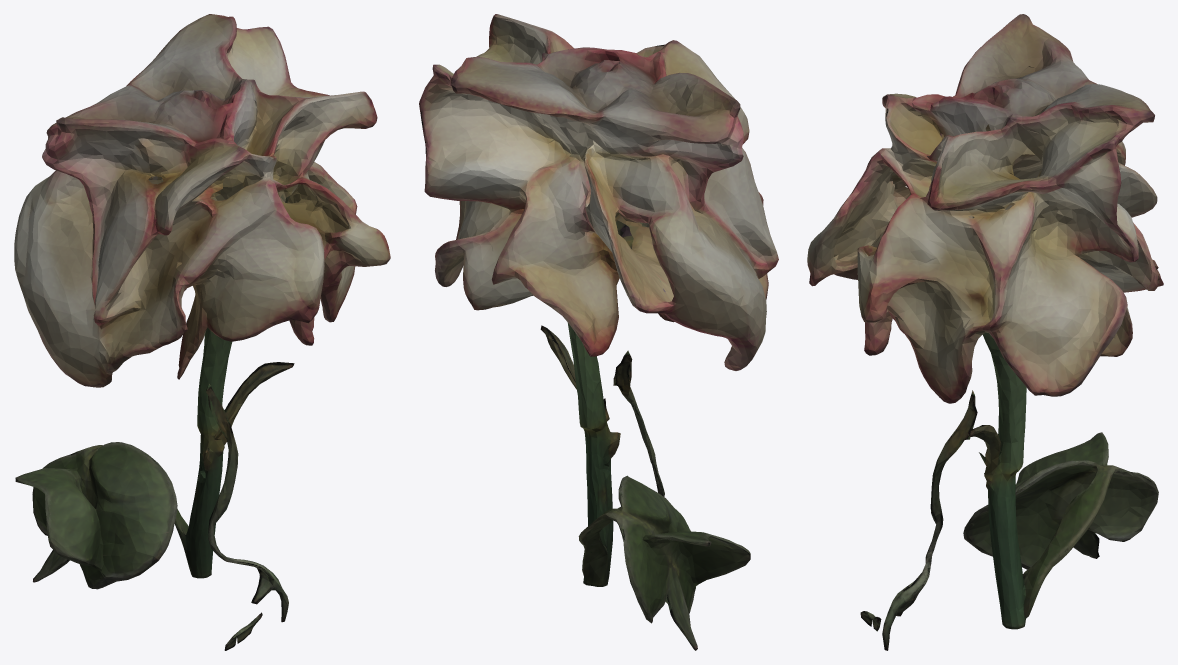
3 renders of one model, left to right at view 1: azimuth 30°, elevation 25°; view 2: azimuth 150°, elevation 25°; view 3: azimuth 270°, elevation 25°, orthographic. The views are drawn at different scales.
Visible parts, largest first — view 1: world; view 2: world; view 3: world.
Boxes of the visible parts, x1,y1,x2,y2 form: world: (14,14,390,650); world: (419,14,778,650); world: (807,14,1163,650).
Size of the model in its own units: 0.5915 by 0.9675 by 0.5404.
1 material, 1 textured.
